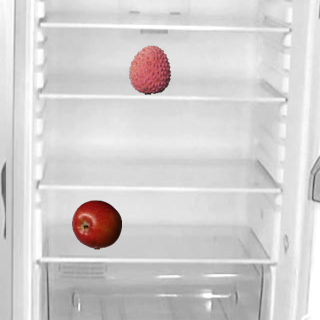Apple Braeburn: (71, 199, 121, 249)
Lychee: (124, 44, 174, 94)
